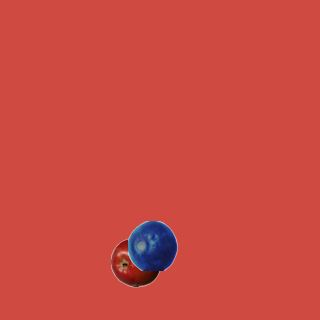Apple Braeburn: (110, 237, 160, 287)
Huckleberry: (127, 220, 177, 270)
